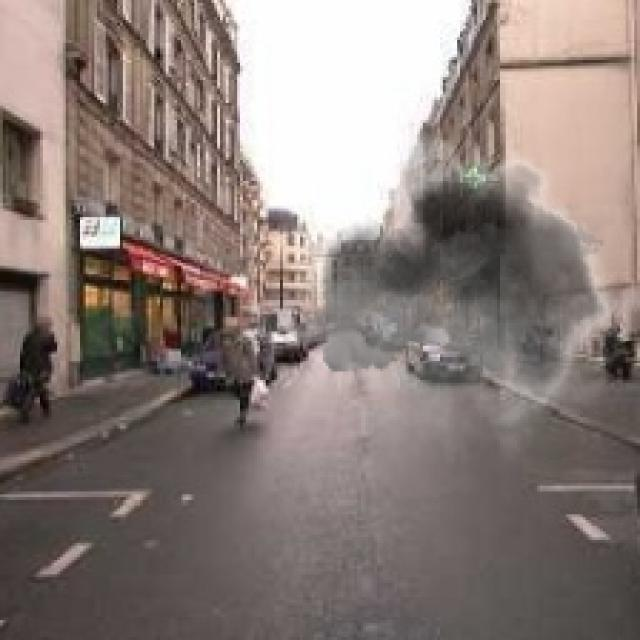smoke: (289, 117, 634, 466)
